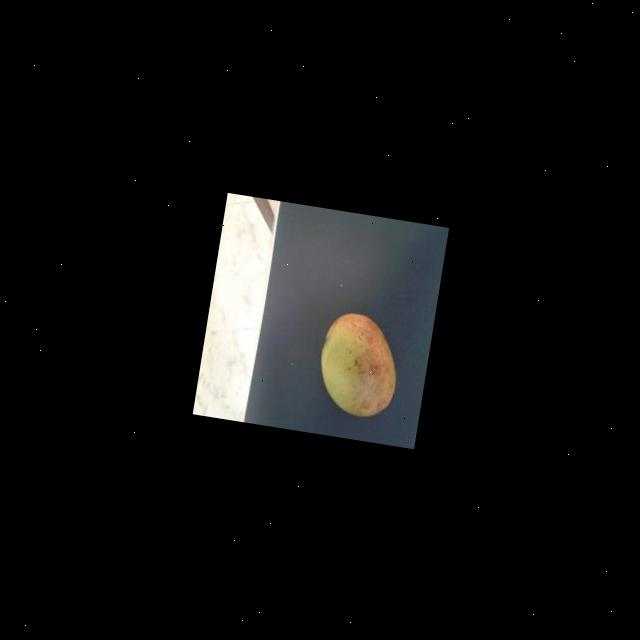Mango: (312, 307, 406, 420)
